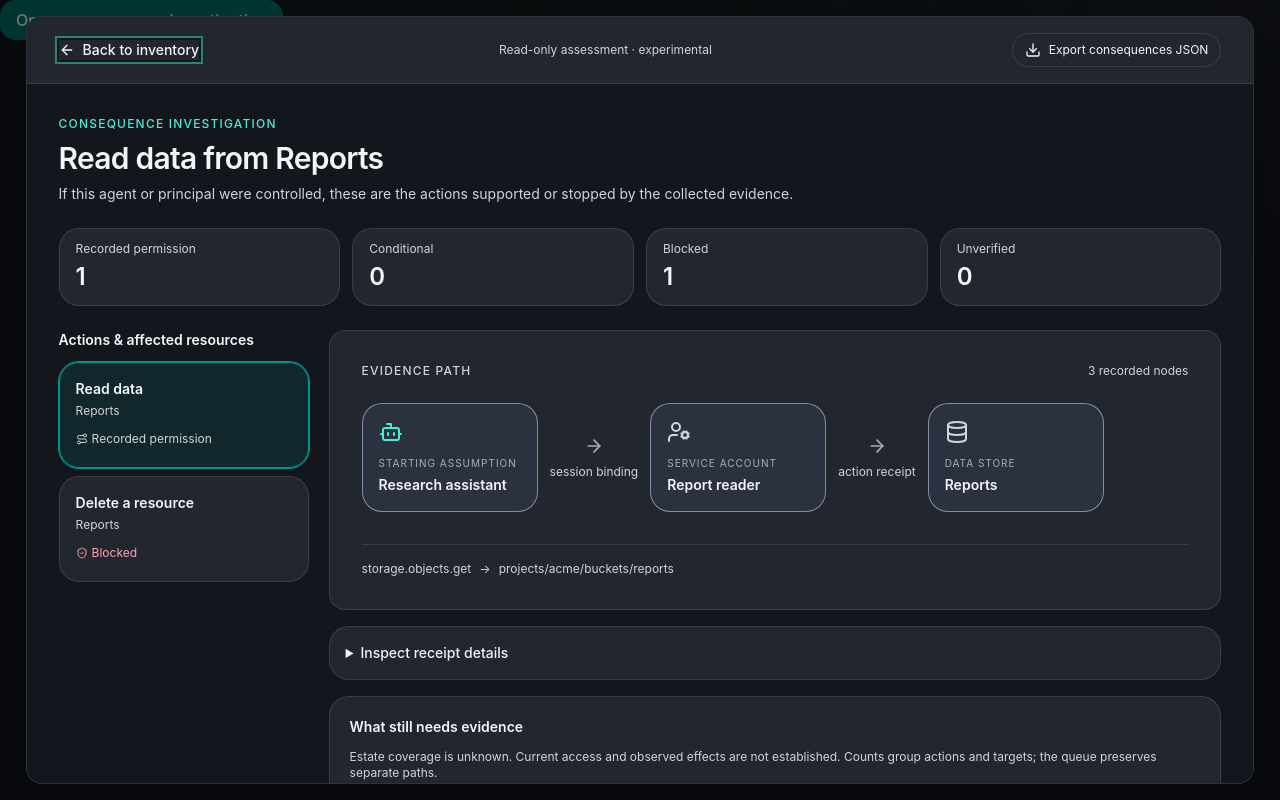
Test: focuses the selected consequence in a wide investigation with its actual identity path
Check: the heading "Read data from Reports" is shown, box [59,140,383,176]
Check: the list named "Selected consequence path" shows "Research assistant", box [379,476,507,493]
Click the button "Delete a resource Reports Blocked" at (184, 529), box [59,476,309,582]
(page scrolled)
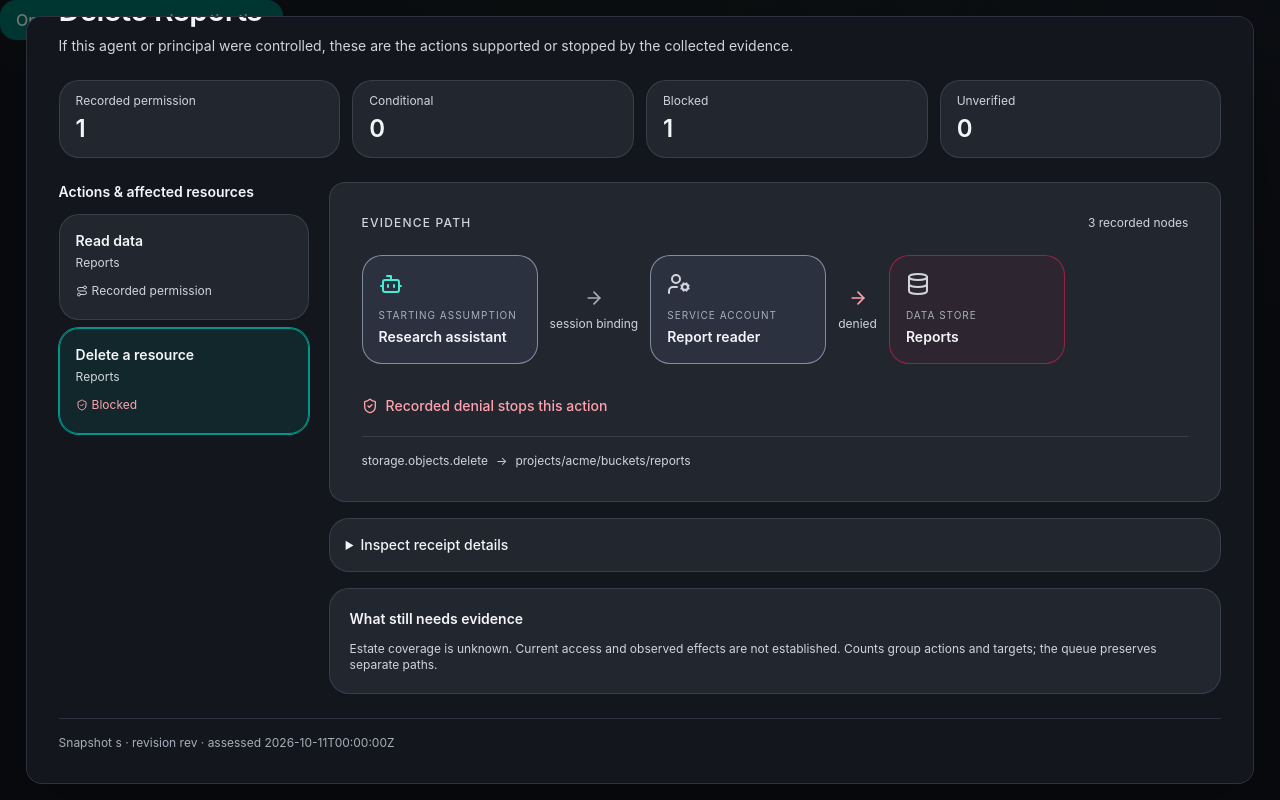
Check: the text "Recorded denial stops this action" is shown, box [362,397,607,414]
Check: the text "Snapshot s · revision rev · assessed 2026-10-11T00:00:00Z" is shown, box [59,718,1221,751]
